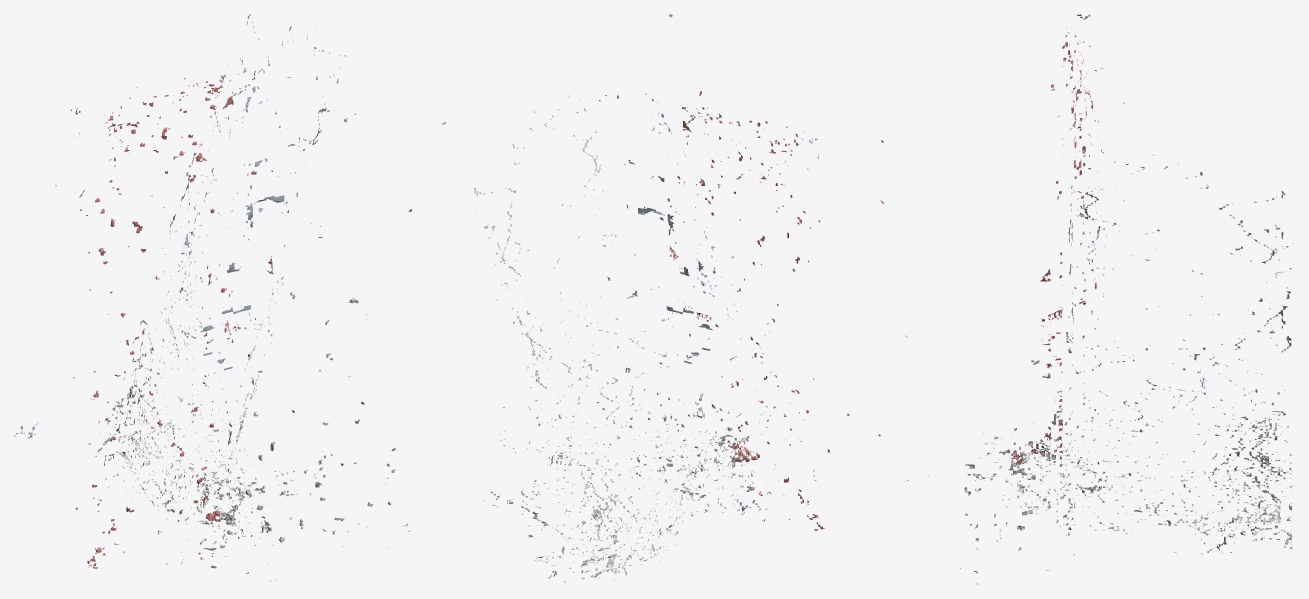
File: B173-뜬면-1__nojudge_ALS_s0__removed.glb
3 renders of one model, left to right at view 1: azimuth 30°, elevation 25°; view 2: azimuth 150°, elevation 25°; view 3: azimuth 270°, elevation 25°, orthographic. The views are drawn at different scales.
Size of the model in its own units: 21.72 by 34.47 by 28.97.
